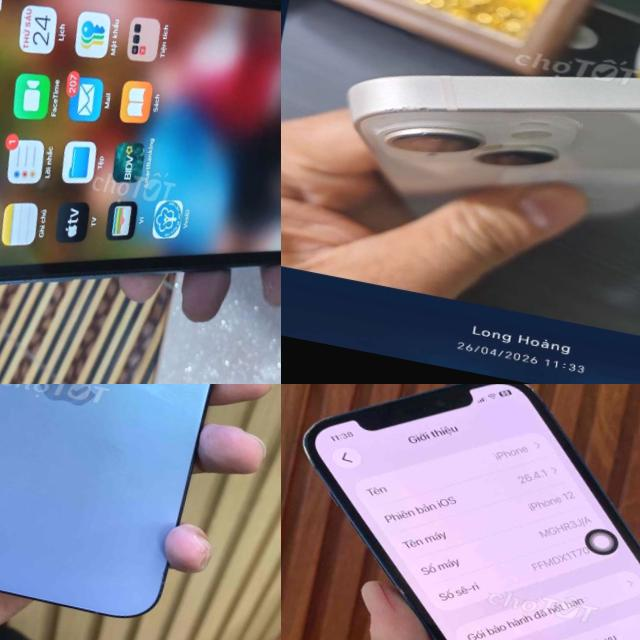scratch: (462, 384, 571, 413)
